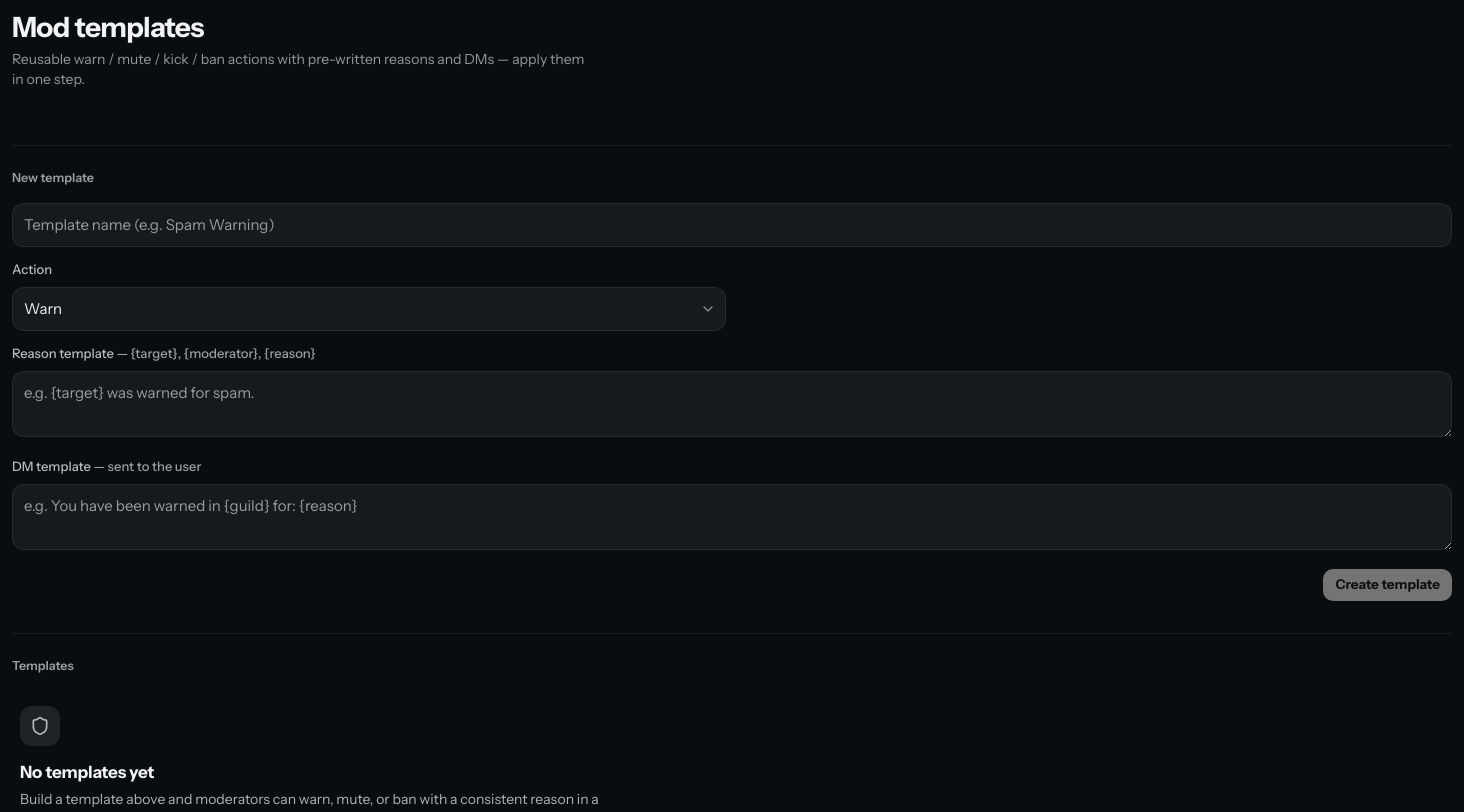
Test: ModerationTemplatesSection › keeps create disabled until a template name is present
The width and height of the screenshot is (1464, 812).
Expected: the button "Create template" is disabled, [1324, 569, 1452, 601]
Type "Kick macro" into the field labelled "Template name".
click(732, 225); type("Kick macro")  # box [12, 203, 1452, 247]
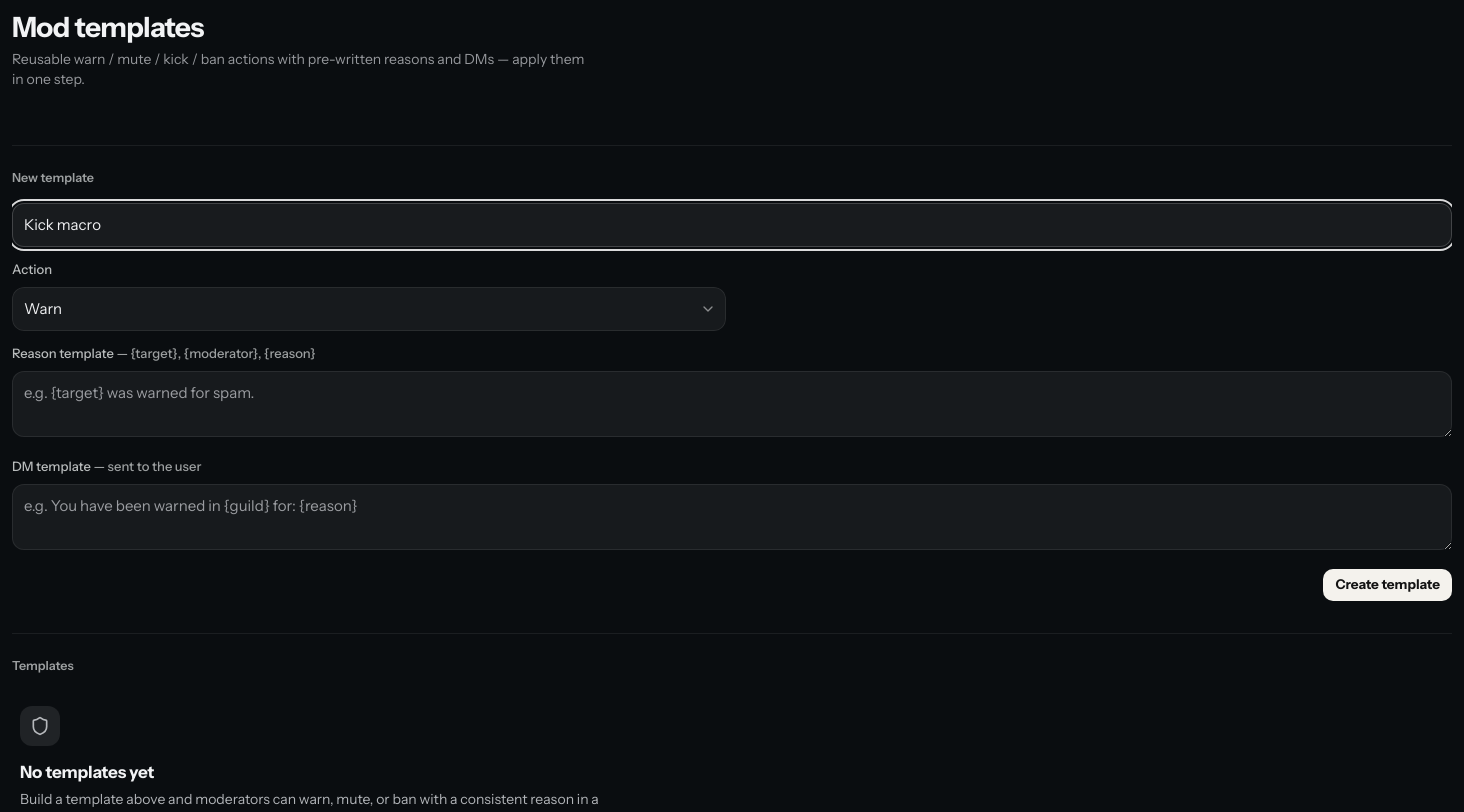
Expected: the button "Create template" is enabled, [1324, 569, 1452, 601]
